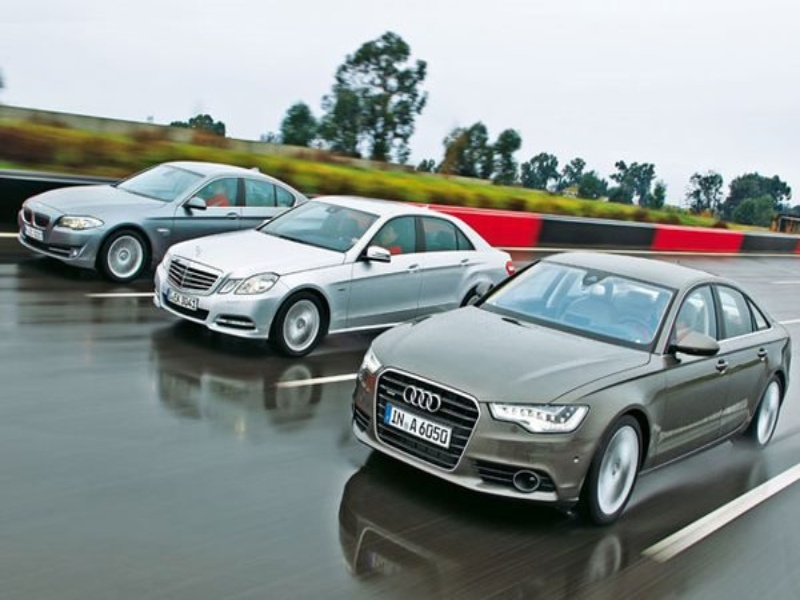car: (348, 251, 793, 531), (152, 196, 514, 361), (17, 160, 309, 288)
person: (205, 180, 228, 206), (379, 225, 400, 253)
plate: (383, 404, 451, 454), (165, 289, 197, 309)
